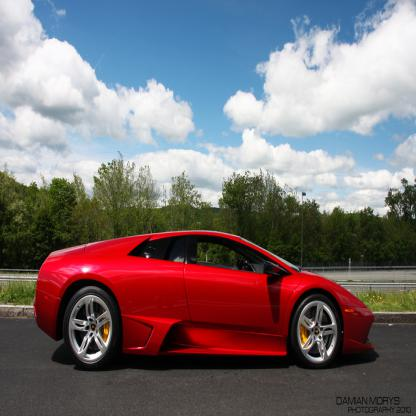Car: (32, 228, 376, 369)
